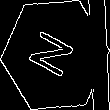N_SE: (27, 26, 83, 84)
